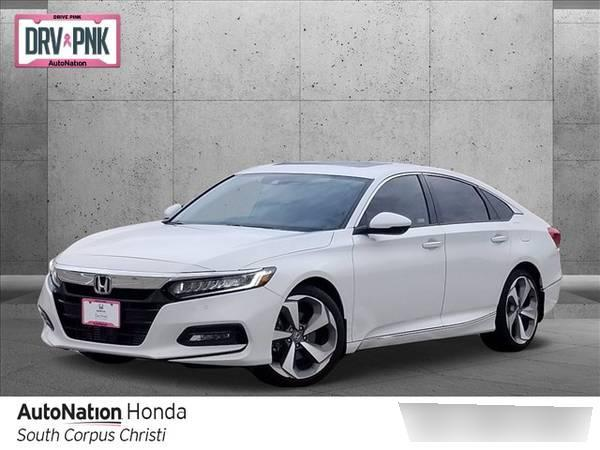Front_Bumper: (136, 285, 283, 364), (34, 284, 65, 349)
Front_Fender: (238, 230, 353, 356)
Front_Left_Door: (352, 228, 444, 354)
Front_Left_Window: (347, 174, 434, 236)
Front_Windshield: (161, 177, 367, 238)
Grille: (48, 274, 167, 356)
Hood: (49, 223, 332, 276)
Left_Headlight: (164, 266, 275, 302)
Left_Taillight: (548, 225, 564, 250)
Rear_Bumper: (541, 277, 561, 317)
Rear_Fender: (505, 223, 560, 287)
Rear_Left_Door: (436, 224, 509, 339)
Rear_Left_Window: (419, 176, 511, 226)
Right_Headlight: (45, 261, 62, 295)
Roof: (235, 162, 546, 234)
Wheel: (271, 286, 346, 383), (484, 272, 540, 350)
